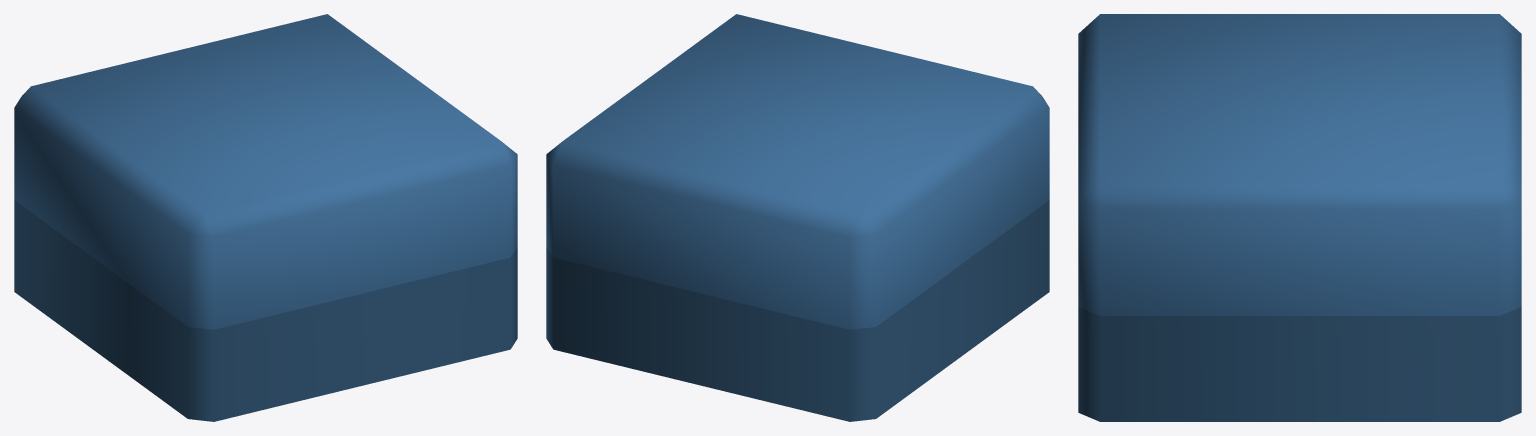
Rendered from RoofAdd_2_D_6.fbx.
3 views of the same model, side by side, from view 1: azimuth 30°, elevation 25°; view 2: azimuth 150°, elevation 25°; view 3: azimuth 270°, elevation 25° (orthographic). The views are drawn at different scales.
Visible parts, largest first — view 1: RoofAdd_2_D_6; view 2: RoofAdd_2_D_6; view 3: RoofAdd_2_D_6.
Boxes of the visible parts, bbox=[...] form: RoofAdd_2_D_6: bbox=[14, 14, 517, 421]; RoofAdd_2_D_6: bbox=[546, 14, 1049, 421]; RoofAdd_2_D_6: bbox=[1078, 14, 1521, 421].
Bounding box in the file's own units: 127 × 74.17 × 128.
